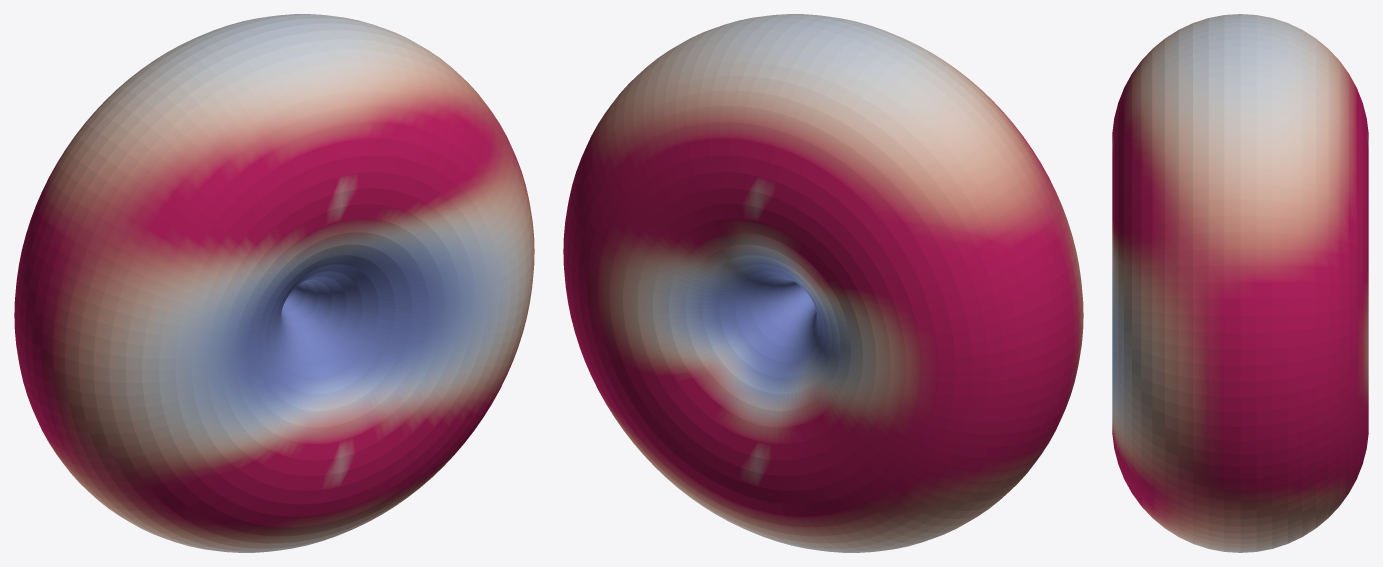
The picture shows the model from 3 angles, left to right: view 1: azimuth 30°, elevation 25°; view 2: azimuth 150°, elevation 25°; view 3: azimuth 270°, elevation 25°; orthographic projection. The views are drawn at different scales.
Visible parts, largest first — view 1: world; view 2: world; view 3: world.
Part boxes in pixels (x1,y1,x2,y2): world: (14, 14, 534, 552); world: (563, 14, 1083, 552); world: (1112, 14, 1368, 552).
Size of the model in its own units: 20.4 by 20.4 by 9.71.
